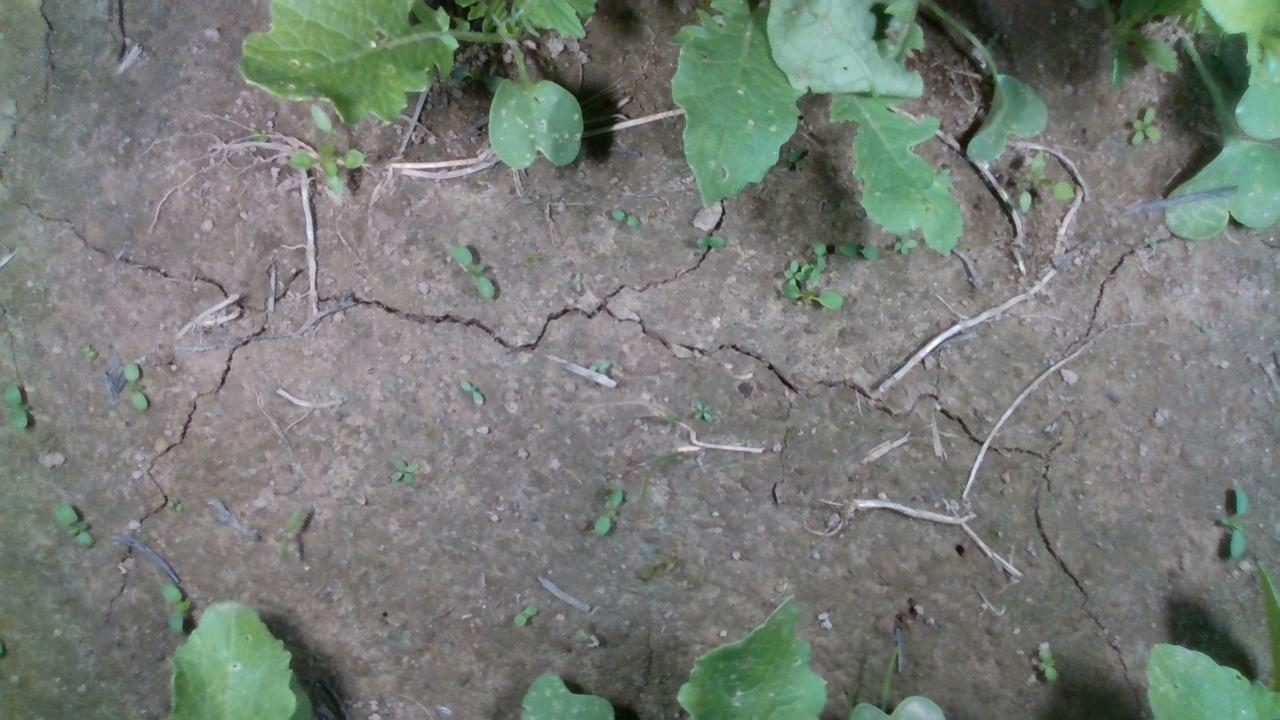weed: (449, 243, 497, 300), (51, 502, 94, 548), (275, 500, 304, 561), (592, 485, 623, 536), (1126, 103, 1160, 146), (1228, 483, 1246, 560), (121, 360, 148, 410), (1, 383, 27, 429), (387, 456, 420, 486), (1033, 643, 1058, 682), (836, 239, 878, 261), (458, 378, 486, 406), (511, 602, 537, 626), (609, 206, 640, 226), (691, 397, 715, 422), (692, 234, 724, 250), (164, 496, 183, 510)
